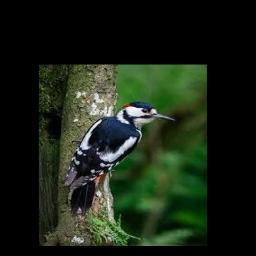Woodpecker: (64, 101, 175, 218)
